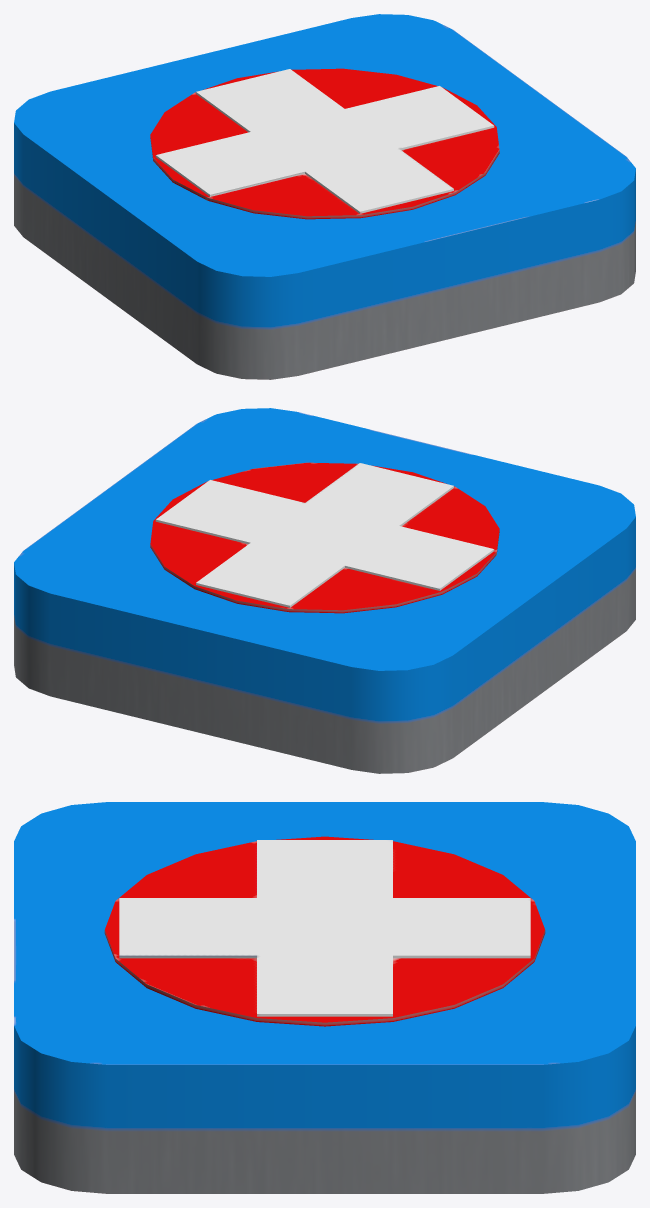
Rendered from healthbox.gltf.
The picture shows the model from 3 angles, top to bottom: view 1: azimuth 30°, elevation 25°; view 2: azimuth 150°, elevation 25°; view 3: azimuth 270°, elevation 25°; orthographic projection. The views are drawn at different scales.
Parts seen in each view (by area): view 1: Cube; view 2: Cube; view 3: Cube.
Part boxes in pixels (bbox=[...]): Cube: bbox=[14, 14, 635, 379]; Cube: bbox=[14, 408, 635, 773]; Cube: bbox=[14, 802, 635, 1193].
Bounding box in the file's own units: 0.6787 × 0.1632 × 0.6787.
Materials: 1 (1 with a texture image).
